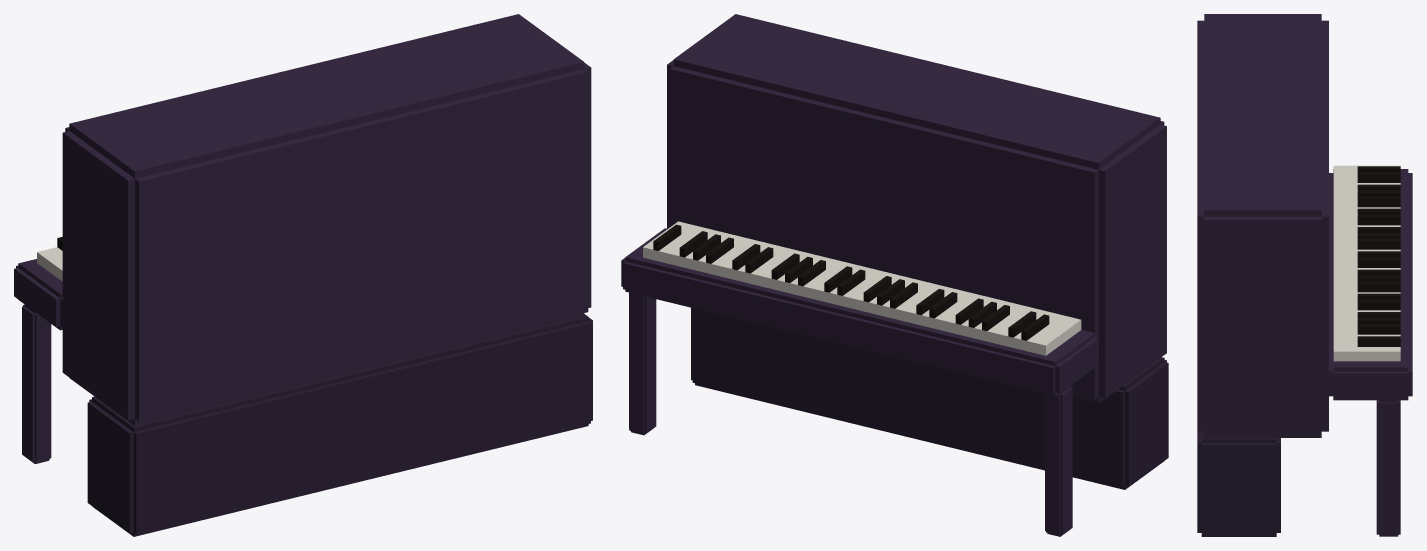
Rendered from obsidian_piano_v0.glb.
3 views of the same model, side by side, from view 1: azimuth 30°, elevation 25°; view 2: azimuth 150°, elevation 25°; view 3: azimuth 270°, elevation 25° (orthographic). The views are drawn at different scales.
Visible parts, largest first — view 1: obsidian_piano_v0; view 2: obsidian_piano_v0; view 3: obsidian_piano_v0.
Part boxes in pixels (left/top/right/bottom): obsidian_piano_v0: left=14, top=14, right=592, bottom=536; obsidian_piano_v0: left=621, top=14, right=1168, bottom=536; obsidian_piano_v0: left=1197, top=14, right=1412, bottom=536.
Size of the model in its own units: 2 by 1.5 by 0.9.
